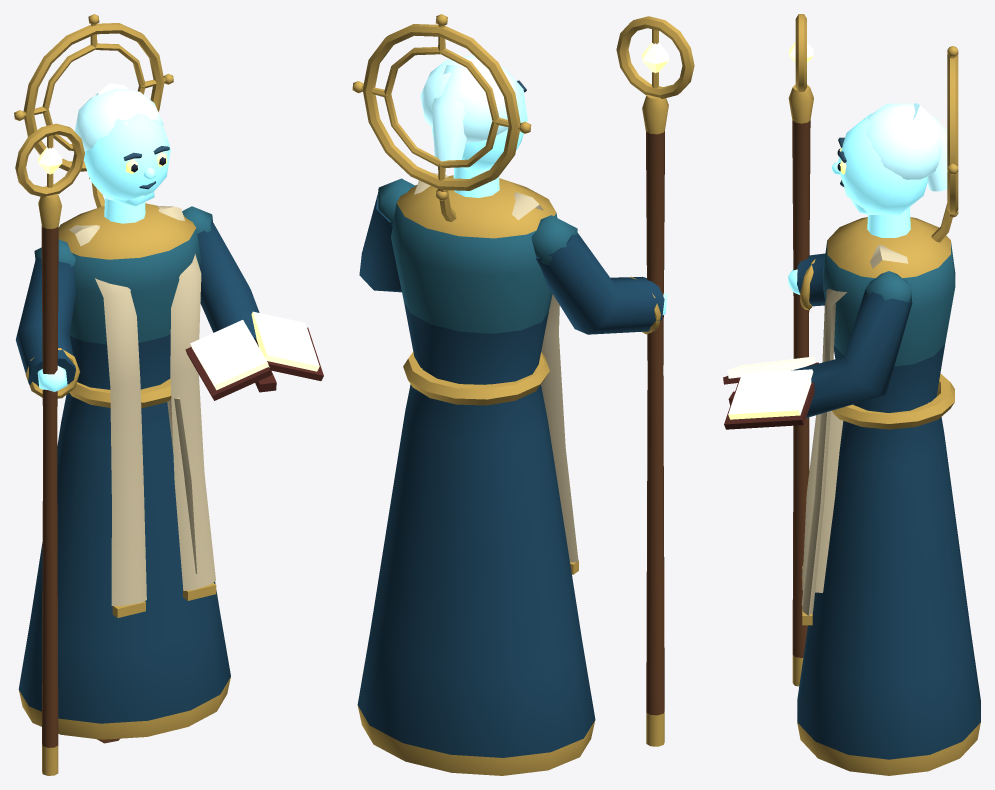
Rendered from npc_soul_teacher.glb.
The picture shows the model from 3 angles, left to right: view 1: azimuth 30°, elevation 25°; view 2: azimuth 150°, elevation 25°; view 3: azimuth 270°, elevation 25°; orthographic projection. The views are drawn at different scales.
Visible parts, largest first — view 1: npc_soul_teacher; view 2: npc_soul_teacher; view 3: npc_soul_teacher.
Boxes of the visible parts, x1=… form: npc_soul_teacher: x1=14, y1=14, x2=323, y2=775; npc_soul_teacher: x1=352, y1=14, x2=694, y2=775; npc_soul_teacher: x1=723, y1=14, x2=980, y2=775.
Size of the model in its own units: 0.8706 by 1.93 by 0.6472.
